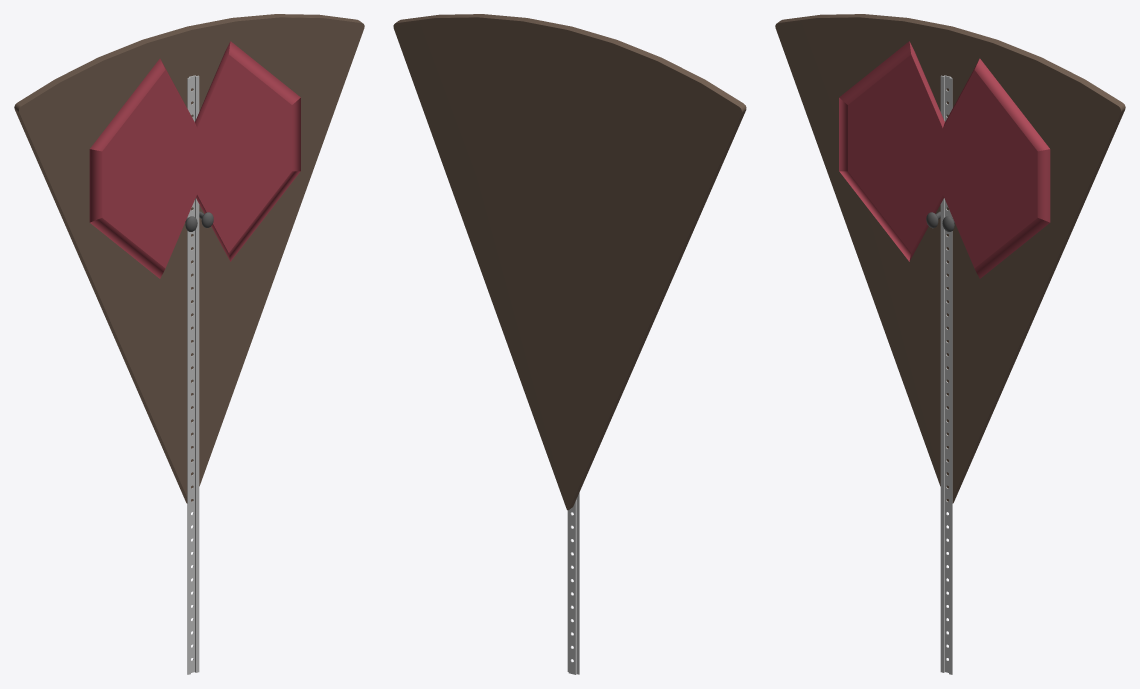
The model's file is MountedWeapon.fbx.
3 renders of one model, left to right at view 1: azimuth 30°, elevation 25°; view 2: azimuth 150°, elevation 25°; view 3: azimuth 330°, elevation 25°, orthographic.
Parts seen in each view (by area): view 1: WeaponMount, StopSignWeapon; view 2: WeaponMount, StopSignWeapon; view 3: WeaponMount, StopSignWeapon.
Part boxes in pixels (x1=…): WeaponMount: x1=14, y1=14, x2=364, y2=503; StopSignWeapon: x1=89, y1=41, x2=300, y2=674; WeaponMount: x1=393, y1=14, x2=746, y2=510; StopSignWeapon: x1=567, y1=492, x2=579, y2=674; WeaponMount: x1=775, y1=14, x2=1125, y2=503; StopSignWeapon: x1=839, y1=41, x2=1050, y2=674.
Bounding box in the file's own units: 2.73 × 4.85 × 0.1984.
